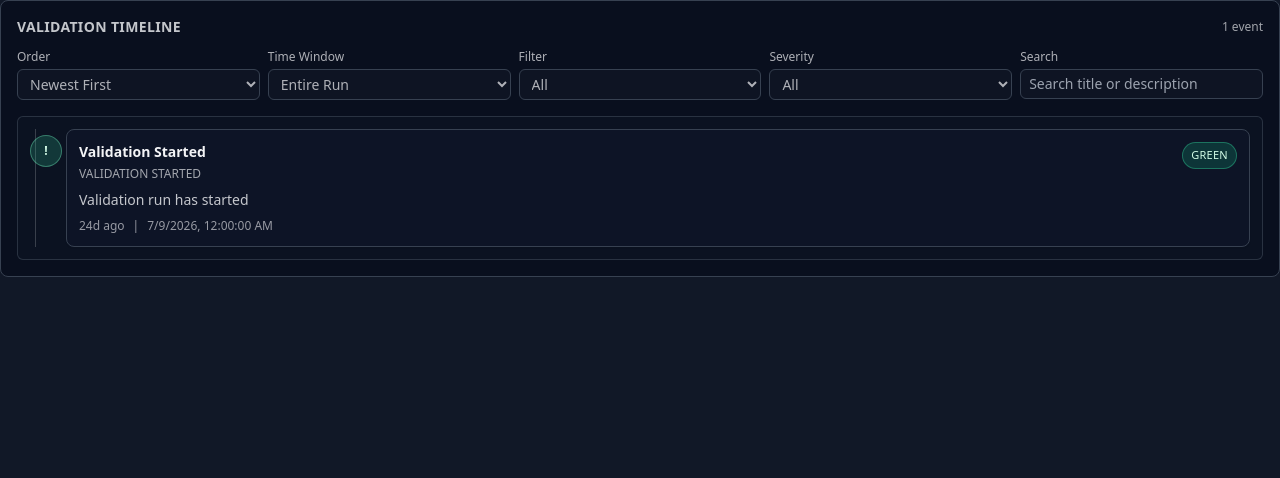
Test: ValidationRunTimeline › supports expand and collapse event details
The width and height of the screenshot is (1280, 478).
What coordinates should you click on to do the following:
click the button
I would click on:
 (658, 188)
Its box is x1=66 y1=129 x2=1250 y2=247.
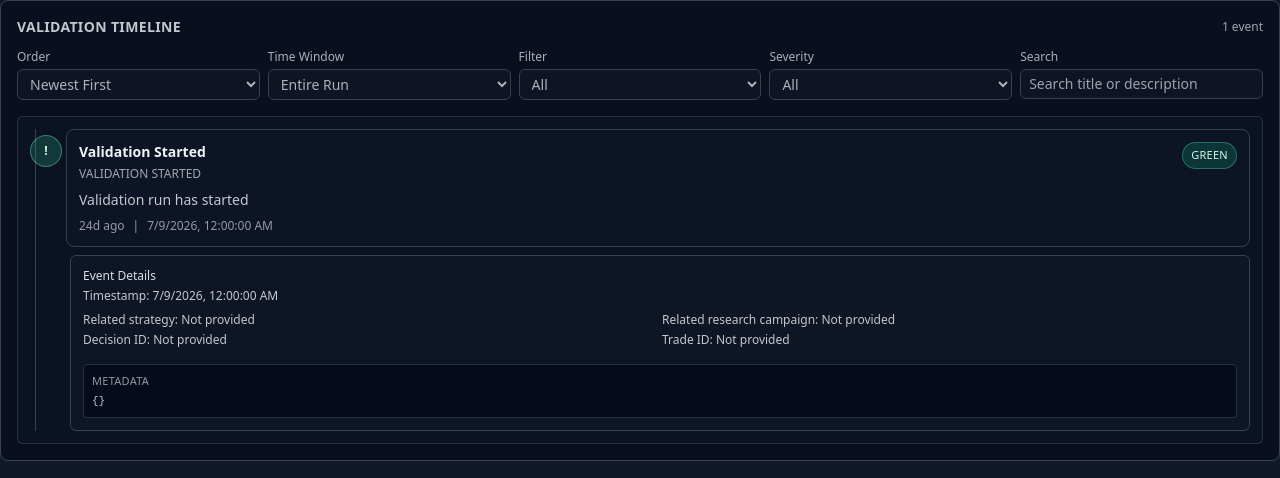
Check: the text "Event Details" is shown, box x1=83 y1=267 x2=156 y2=284
What coordinates should you click on to do the following:
click the button
I would click on:
 (658, 188)
Its box is x1=66 y1=129 x2=1250 y2=247.
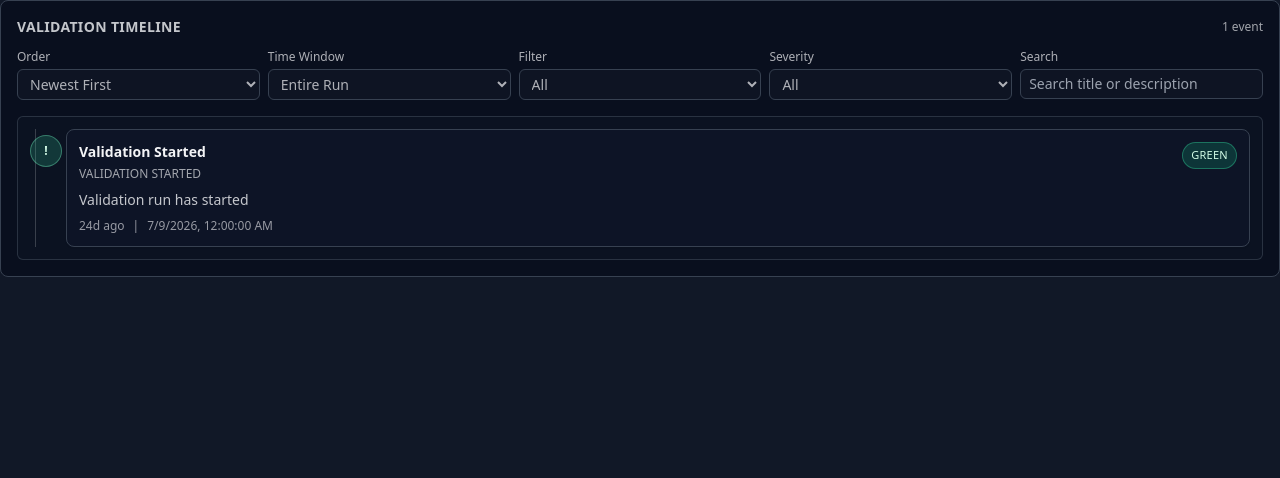
Check: the text "Event Details" is gone
